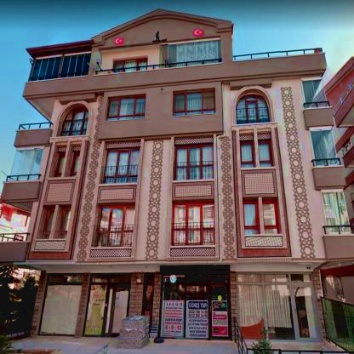door: (291, 284, 320, 341), (103, 283, 130, 335), (208, 284, 231, 339)
